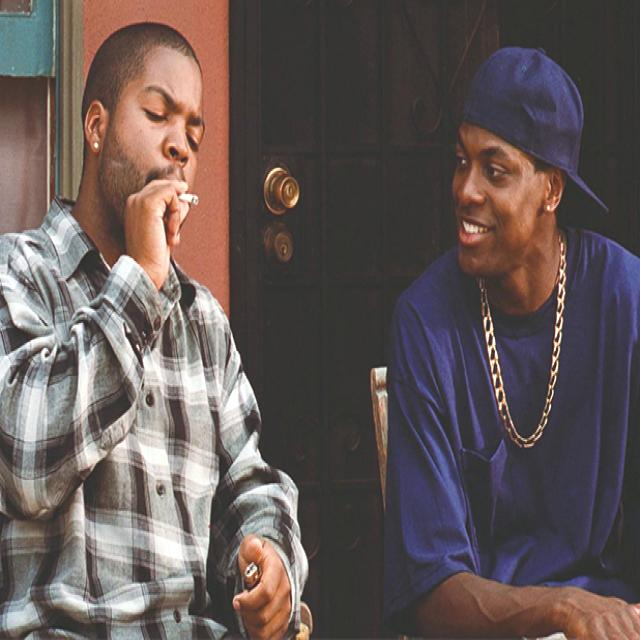smoke: (181, 192, 199, 205)
